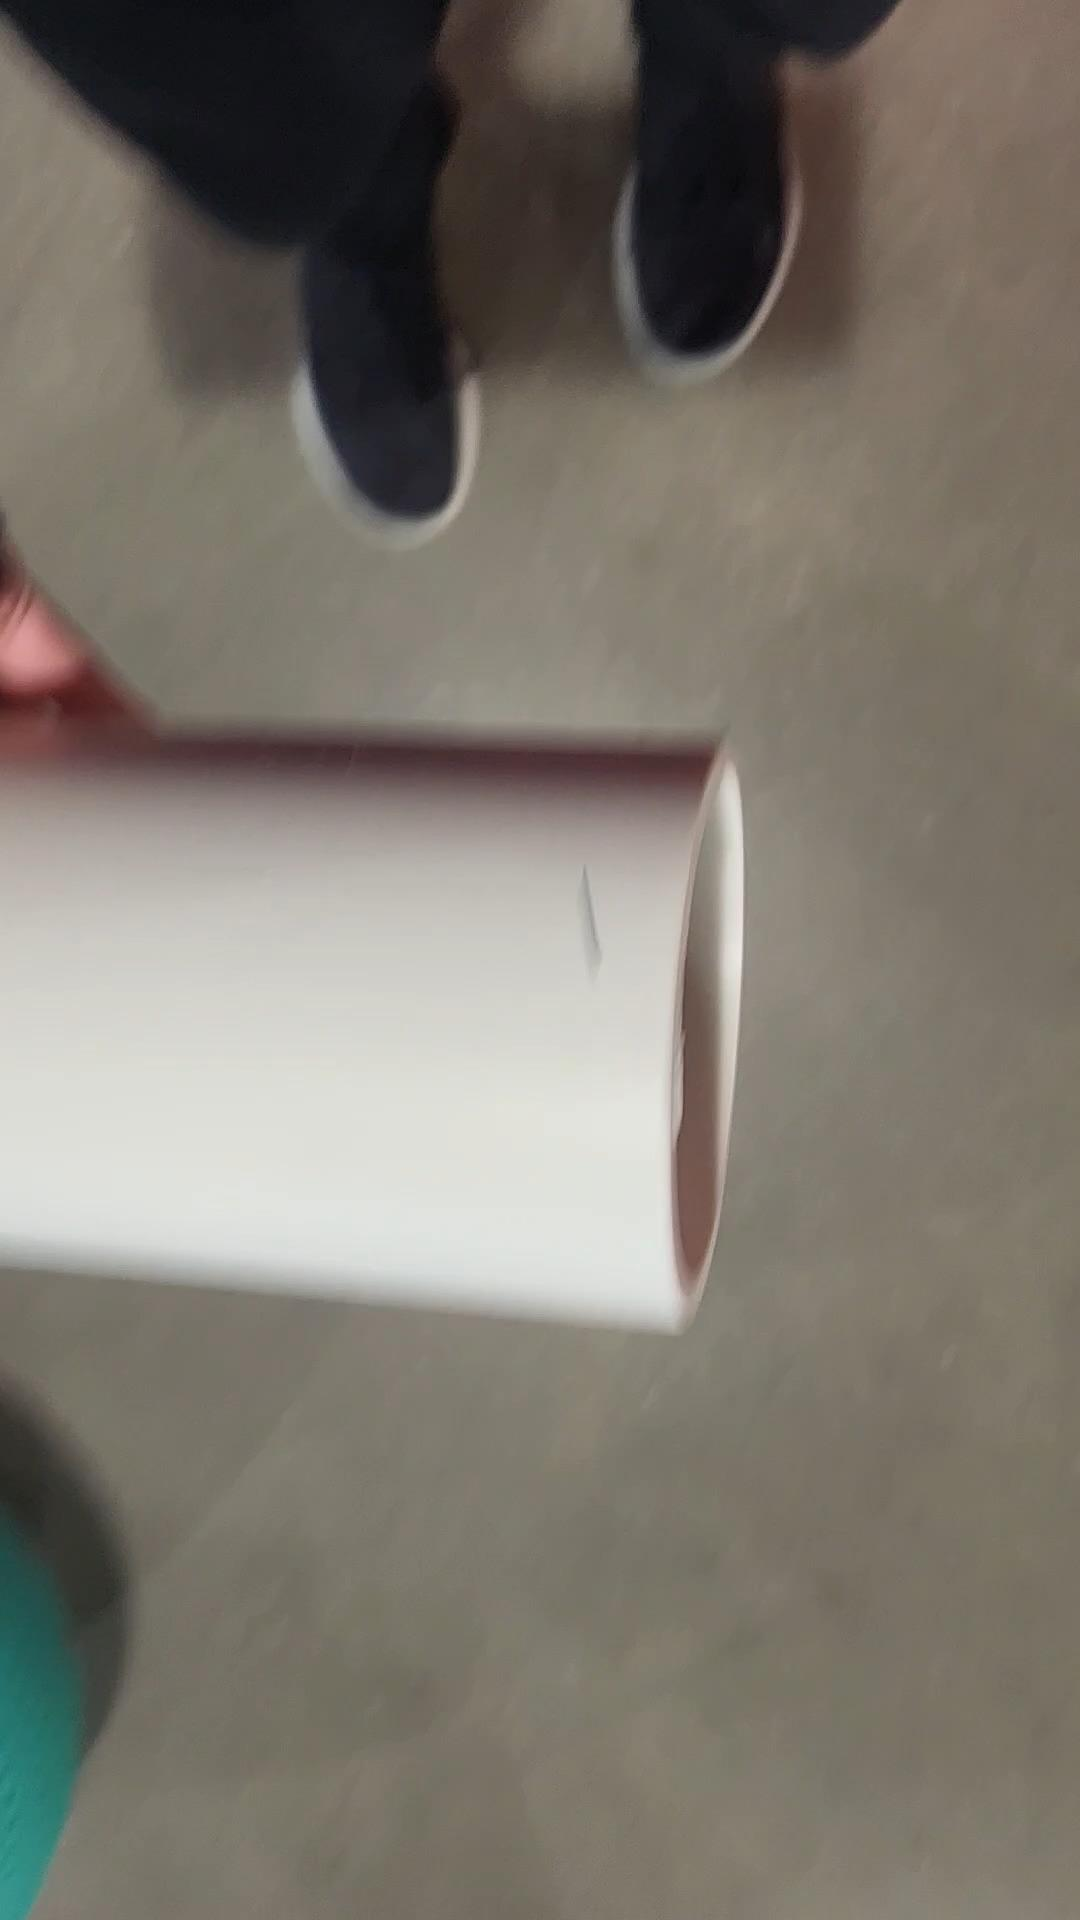algae: (0, 1453, 103, 1920)
coral: (0, 704, 781, 1344)
